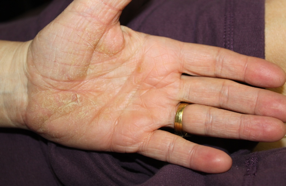Diseased: (48, 25, 141, 144)
